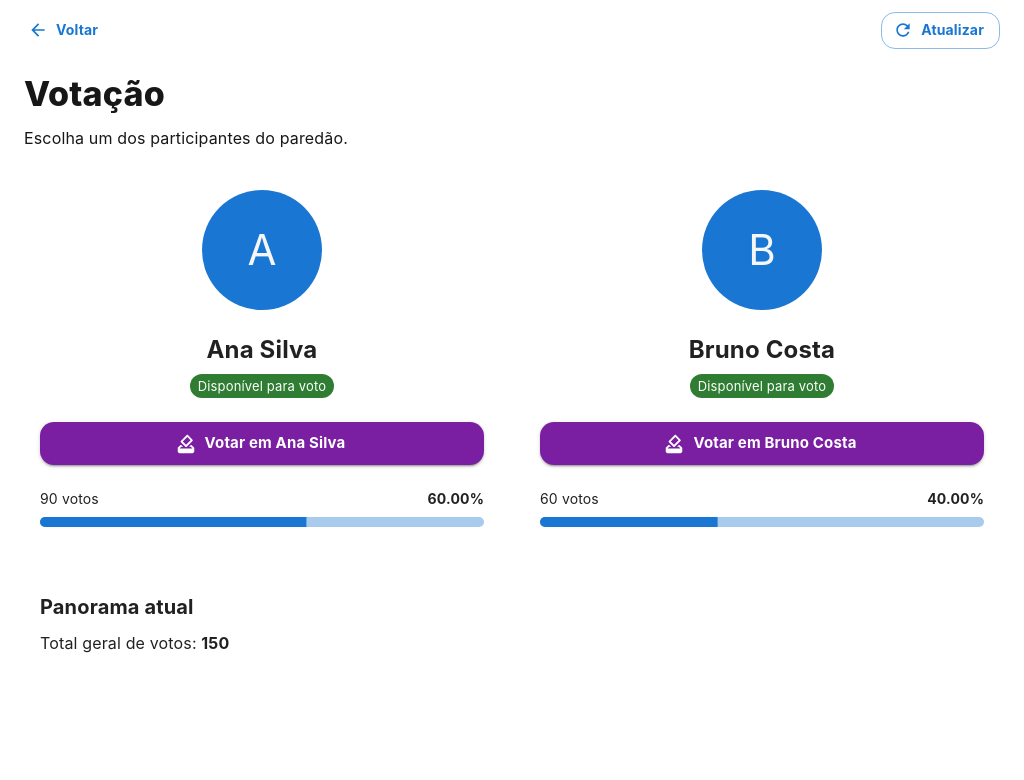
Test: VotingPage › mostra mensagem de erro quando o voto falha
Click the button "Votar em Bruno Costa" at (762, 444), box [540, 422, 984, 465]
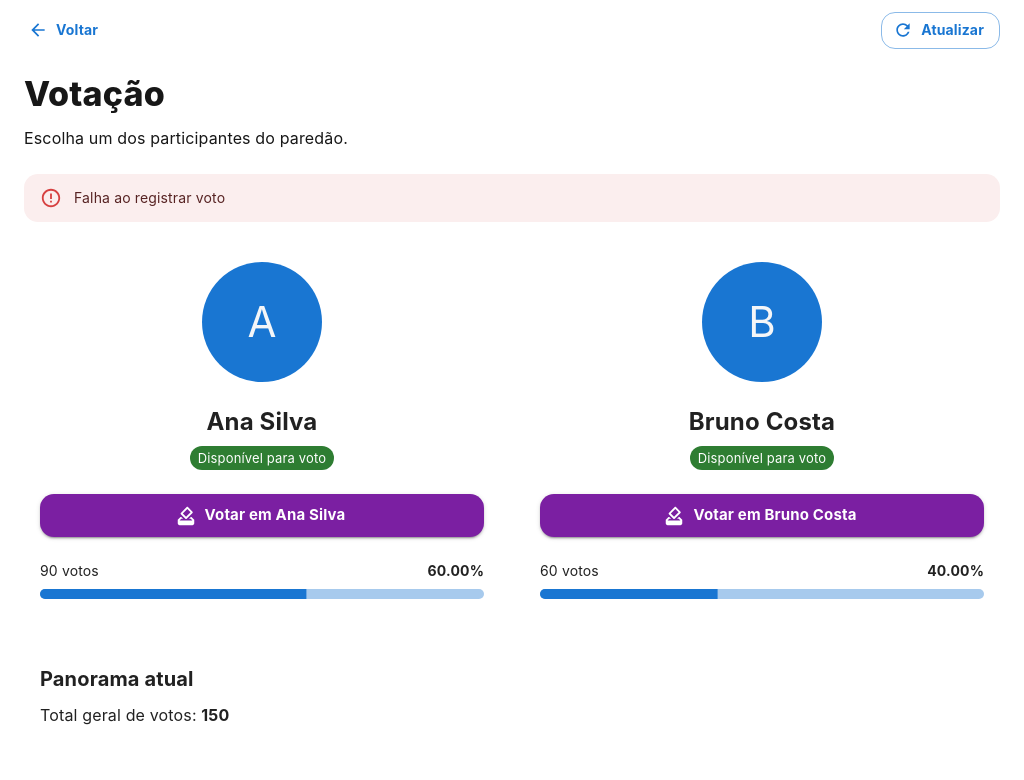
Check: the text "Falha ao registrar voto" is shown, box [74, 189, 225, 206]
